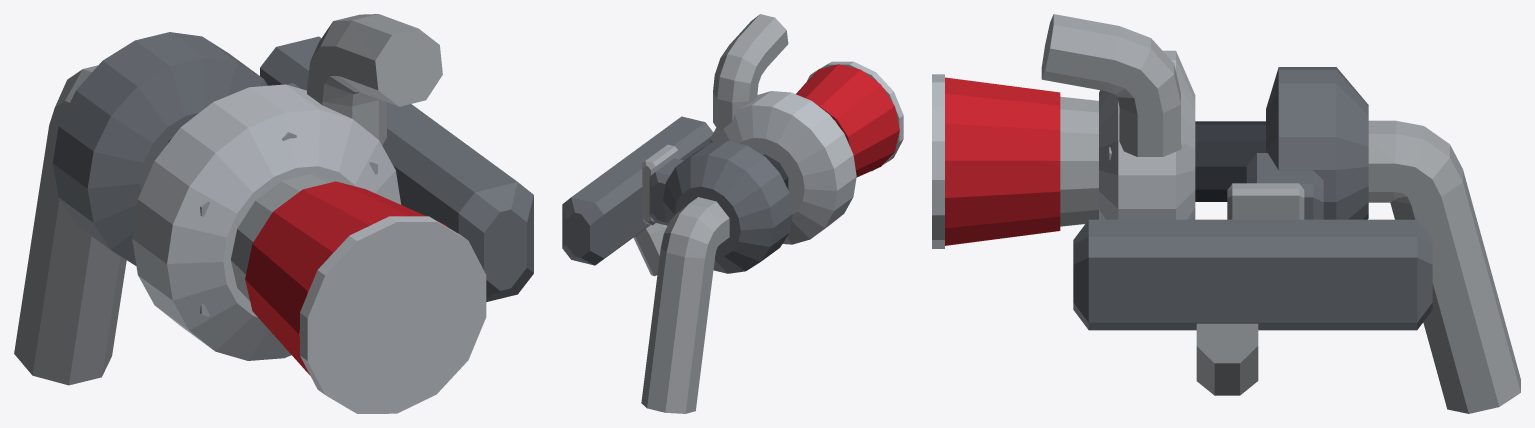
Rendered from starter_car.glb.
The picture shows the model from 3 angles, left to right: view 1: azimuth 30°, elevation 25°; view 2: azimuth 150°, elevation 25°; view 3: azimuth 270°, elevation 25°; orthographic projection. The views are drawn at different scales.
Visible parts, largest first — view 1: model; view 2: model; view 3: model.
Boxes of the visible parts, x1,y1,x2,y2 form: model: (14, 14, 533, 413); model: (562, 14, 903, 413); model: (932, 14, 1520, 413).
Size of the model in its own units: 0.2643 by 0.3579 by 0.4587.
Materials: 2 (1 with a texture image).
